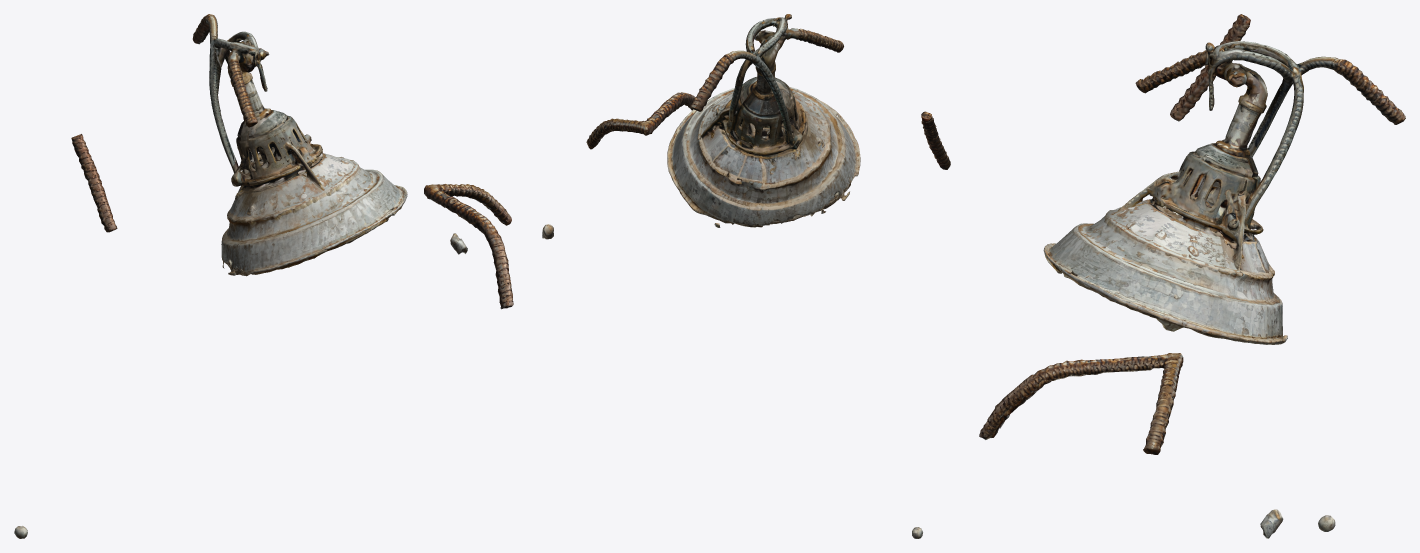
File: BKI_RubbleB2.fbx
3 renders of one model, left to right at view 1: azimuth 30°, elevation 25°; view 2: azimuth 150°, elevation 25°; view 3: azimuth 270°, elevation 25°, orthographic. The views are drawn at different scales.
Visible parts, largest first — view 1: texture_mapping; view 2: texture_mapping; view 3: texture_mapping.
Part boxes in pixels (x1,y1,x2,y2): texture_mapping: [14, 14, 513, 538]; texture_mapping: [542, 14, 950, 538]; texture_mapping: [979, 14, 1405, 538].
Size of the model in its own units: 0.936 by 0.6445 by 1.
1 material, 1 textured.
